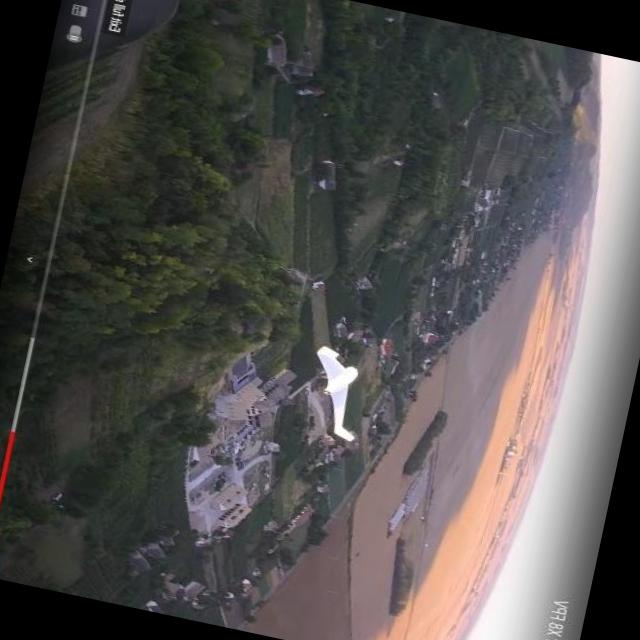UAV: (290, 324, 390, 448)
